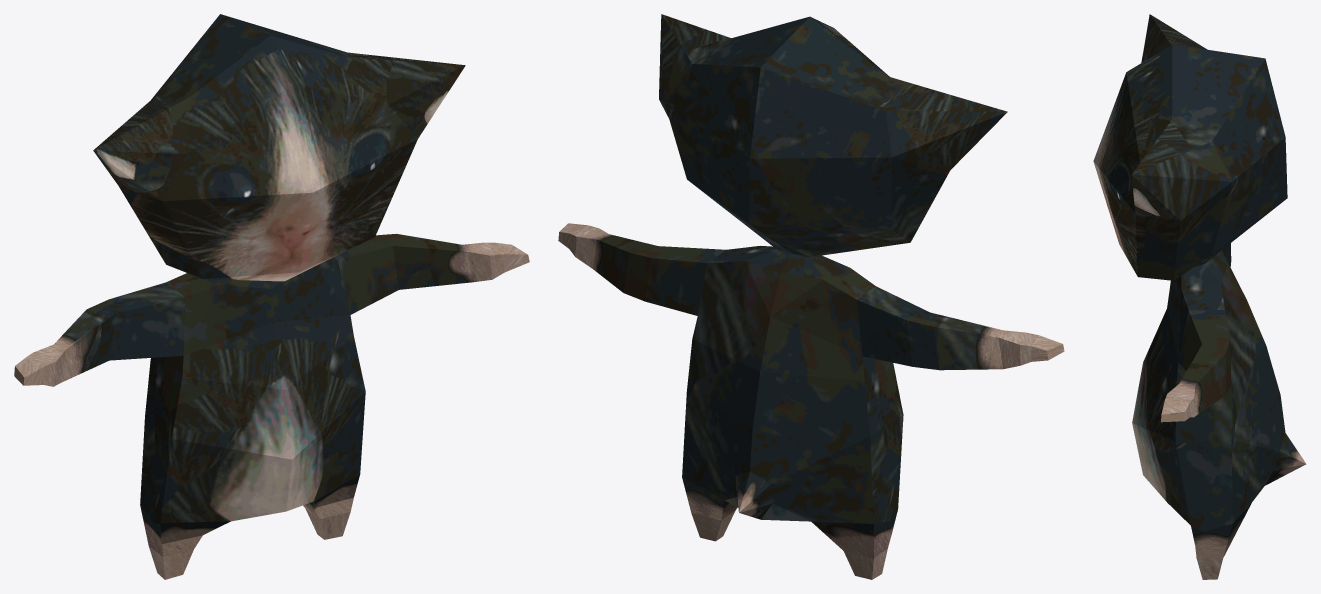
Rendered from Cat_lowpoly.obj.
3 views of the same model, side by side, from view 1: azimuth 30°, elevation 25°; view 2: azimuth 150°, elevation 25°; view 3: azimuth 270°, elevation 25° (orthographic). The views are drawn at different scales.
Visible parts, largest first — view 1: Human.018; view 2: Human.018; view 3: Human.018.
Part boxes in pixels (box(x1,y1,x2,y2)): Human.018: box(14, 14, 529, 579); Human.018: box(558, 14, 1064, 579); Human.018: box(1093, 14, 1306, 579).
Size of the model in its own units: 2.97 by 3 by 1.17.
